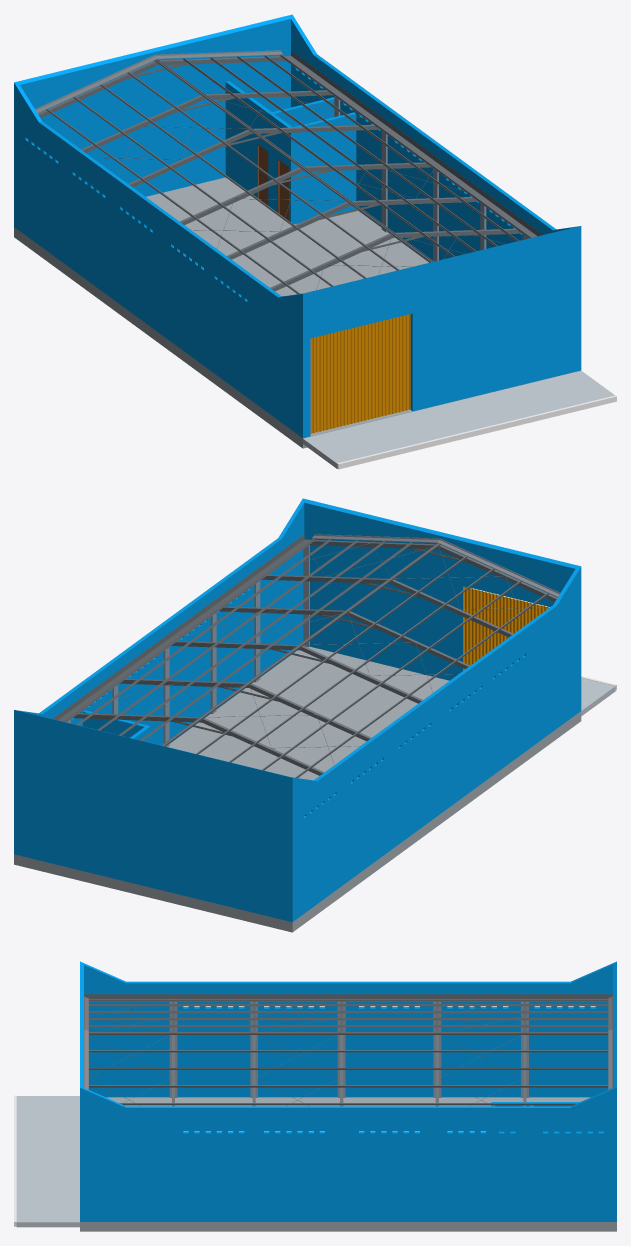
Rendered from Galpão samuel- sem telhas.glb.
The picture shows the model from 3 angles, top to bottom: view 1: azimuth 30°, elevation 25°; view 2: azimuth 150°, elevation 25°; view 3: azimuth 270°, elevation 25°; orthographic projection. The views are drawn at different scales.
Visible parts, largest first — view 1: Parede003, Revestimento 001, Piso e baldrame, Portão, Calçada001, Parede004, Calha 001, Meio fio, Fusion004, Fusion005, Fusion002, Fusion006 (+13 smaller); view 2: Parede003, Piso e baldrame, Calha 001, Portão, Fusion005, Fusion002, Fusion003, Fusion004, Fusion006, Fusion008, Rufo 001, Extrude015 (+10 smaller); view 3: Parede003, Revestimento 002, Piso e baldrame, Calçada001, Calha, Extrude013, Extrude005, Extrude006, Extrude007, Extrude015, Extrude016, Extrude004 (+12 smaller).
Part boxes in pixels (bbox=[...]): Parede003: bbox=[14, 14, 581, 438]; Revestimento 001: bbox=[20, 19, 290, 196]; Piso e baldrame: bbox=[14, 177, 580, 448]; Portão: bbox=[311, 314, 410, 433]; Calçada001: bbox=[303, 370, 614, 468]; Parede004: bbox=[225, 81, 356, 224]; Calha 001: bbox=[280, 51, 542, 237]; Meio fio: bbox=[337, 395, 616, 469]; Fusion004: bbox=[179, 162, 430, 225]; Fusion005: bbox=[128, 124, 379, 187]; Fusion002: bbox=[270, 228, 521, 291]; Fusion006: bbox=[81, 90, 332, 152]; Parede003: bbox=[14, 498, 581, 922]; Piso e baldrame: bbox=[14, 646, 581, 932]; Calha 001: bbox=[53, 534, 314, 721]; Portão: bbox=[463, 586, 548, 670]; Fusion005: bbox=[120, 678, 371, 741]; Fusion002: bbox=[262, 574, 513, 637]; Fusion003: bbox=[219, 606, 470, 669]; Fusion004: bbox=[171, 641, 422, 703]; Fusion006: bbox=[73, 713, 324, 775]; Fusion008: bbox=[309, 540, 557, 602]; Rufo 001: bbox=[312, 534, 560, 597]; Extrude015: bbox=[140, 542, 412, 740]; Parede003: bbox=[80, 961, 616, 1221]; Revestimento 002: bbox=[84, 965, 612, 1097]; Piso e baldrame: bbox=[80, 1097, 616, 1231]; Calçada001: bbox=[16, 1096, 79, 1227]; Calha: bbox=[84, 994, 612, 1000]; Extrude013: bbox=[89, 1085, 608, 1087]; Extrude005: bbox=[89, 1011, 608, 1013]; Extrude006: bbox=[89, 1018, 608, 1020]; Extrude007: bbox=[89, 1025, 608, 1027]; Extrude015: bbox=[89, 1050, 608, 1052]; Extrude016: bbox=[89, 1032, 608, 1034]; Extrude004: bbox=[89, 1004, 608, 1006].
Bounding box in the file's own units: 11.3 × 6 × 22.8.
